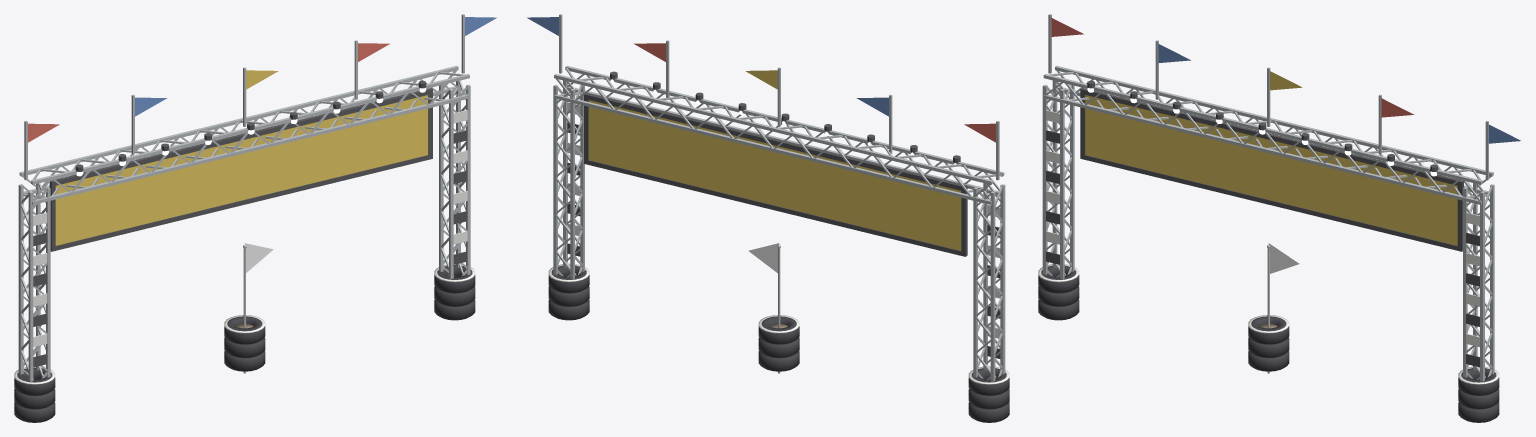
File: mx_track.glb
The picture shows the model from 3 angles, left to right: view 1: azimuth 30°, elevation 25°; view 2: azimuth 150°, elevation 25°; view 3: azimuth 330°, elevation 25°; orthographic projection.
Parts seen in each view (by area): view 1: mx_arch_mesh, mx_tyres_mesh, mx_flag_mesh; view 2: mx_arch_mesh, mx_tyres_mesh, mx_flag_mesh; view 3: mx_arch_mesh, mx_tyres_mesh, mx_flag_mesh.
Part boxes in pixels (x1=…): mx_arch_mesh: x1=14, y1=14, x2=496, y2=422; mx_tyres_mesh: x1=224, y1=315, x2=265, y2=371; mx_flag_mesh: x1=243, y1=243, x2=273, y2=373; mx_arch_mesh: x1=527, y1=14, x2=1009, y2=422; mx_tyres_mesh: x1=758, y1=315, x2=799, y2=371; mx_flag_mesh: x1=748, y1=243, x2=780, y2=373; mx_arch_mesh: x1=1038, y1=14, x2=1520, y2=422; mx_tyres_mesh: x1=1248, y1=315, x2=1289, y2=371; mx_flag_mesh: x1=1267, y1=243, x2=1299, y2=373.
Size of the model in its own units: 11.22 by 6.8 by 0.8274.
